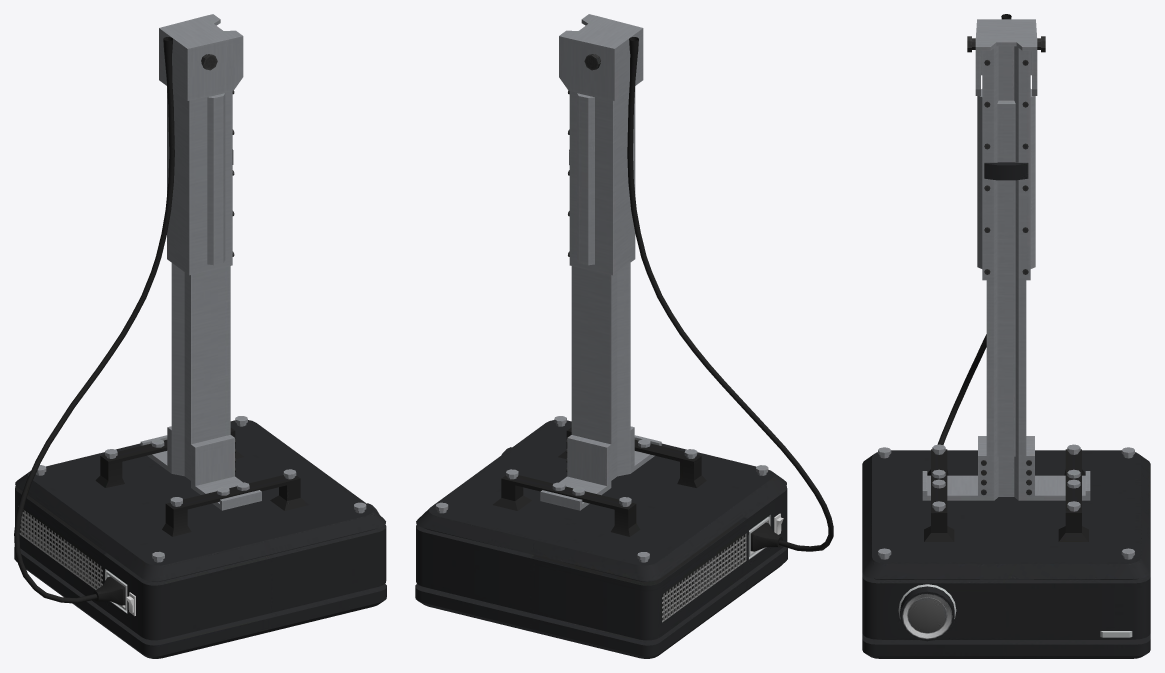
File: projector.glb
The picture shows the model from 3 angles, left to right: view 1: azimuth 30°, elevation 25°; view 2: azimuth 150°, elevation 25°; view 3: azimuth 270°, elevation 25°; orthographic projection. The views are drawn at different scales.
Visible parts, largest first — view 1: base_low__0; view 2: base_low__0; view 3: base_low__0.
Boxes of the visible parts, box(x1,y1,x2,y2) form: base_low__0: box(14, 14, 386, 658); base_low__0: box(415, 14, 833, 658); base_low__0: box(862, 14, 1150, 658).
Bounding box in the file's own units: 2.81 × 4.36 × 2.
2 materials, 1 textured.
